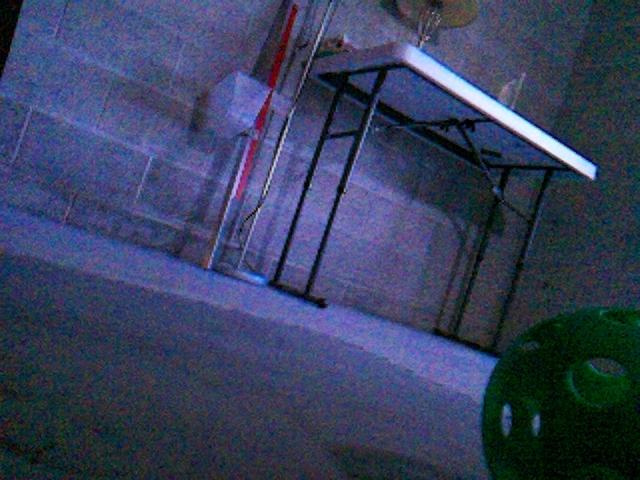Green: (480, 306, 639, 477)
